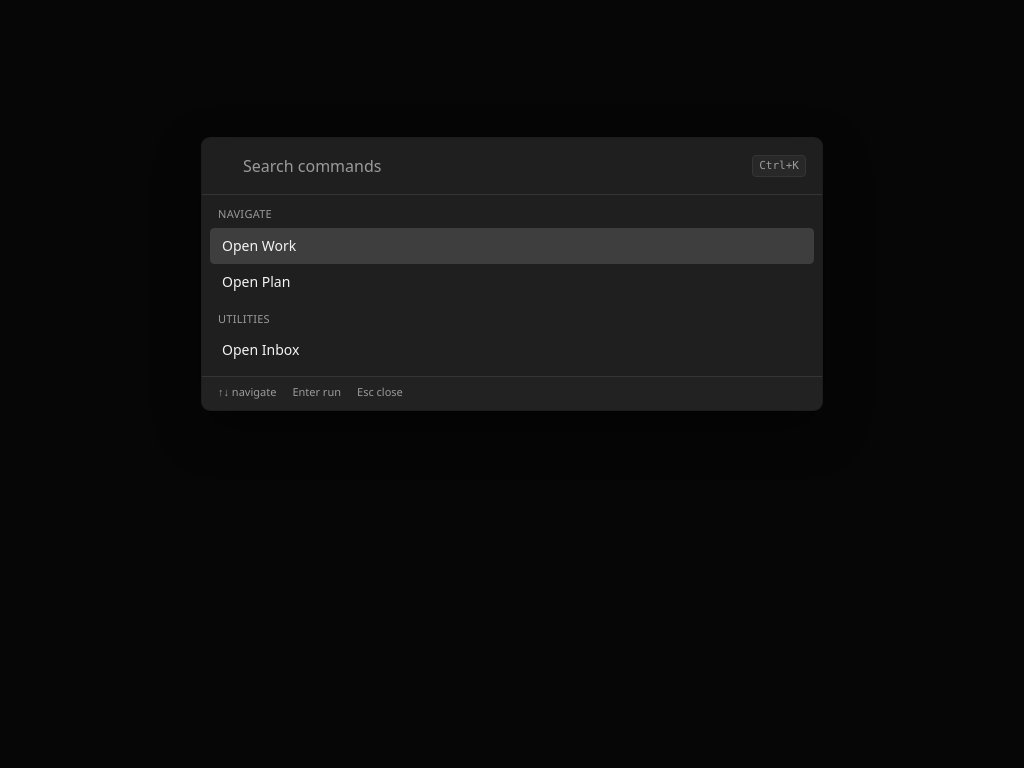
Test case: reports an empty result instead of rendering a blank list
In the dropdown labelled "Search commands": (492, 166) [243,138,740,194], type "nothing matches"
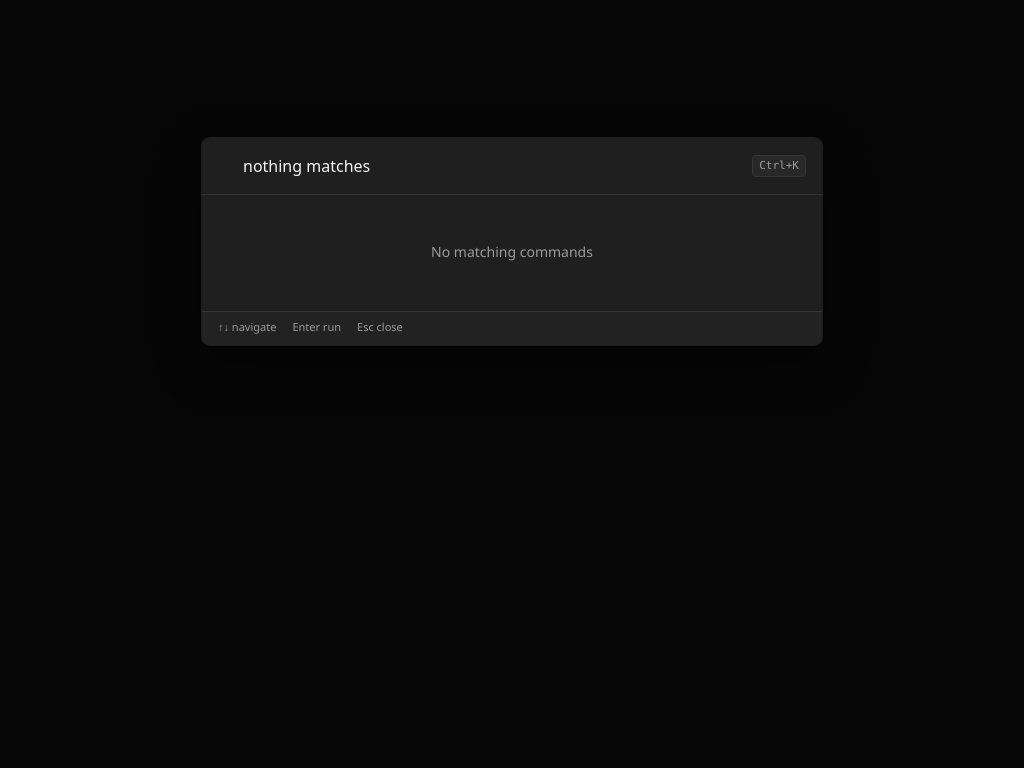
Result: no options are shown
Result: the message reads "No matching commands" at [431,243,593,262]
